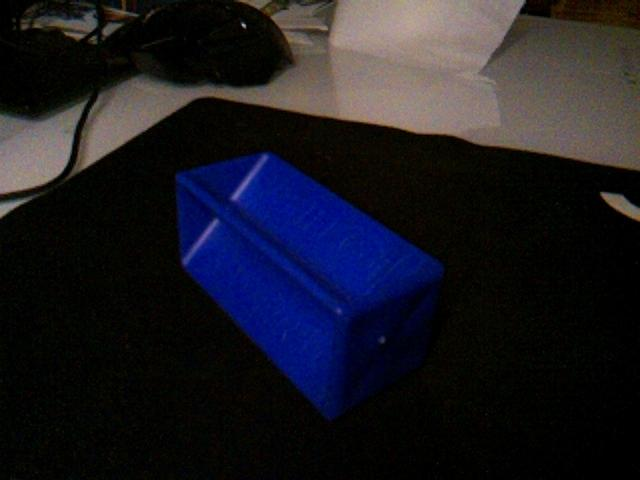blue: (173, 149, 446, 421)
